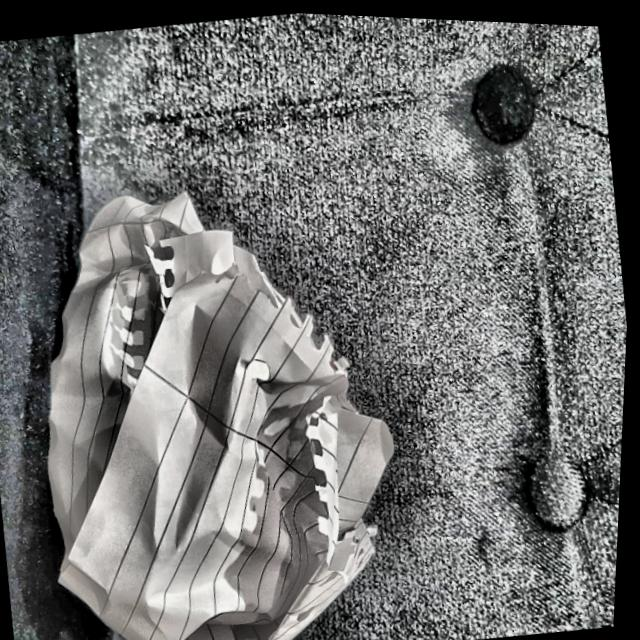paper: (3, 152, 430, 640)
